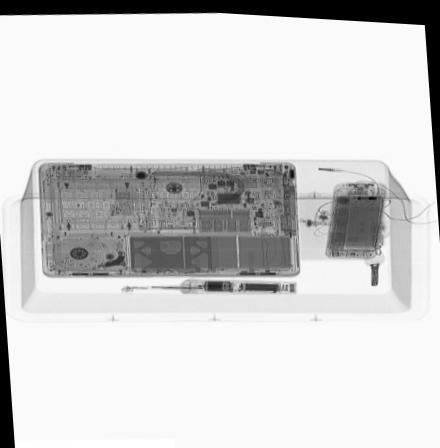Powerbank: (321, 182, 387, 256)
